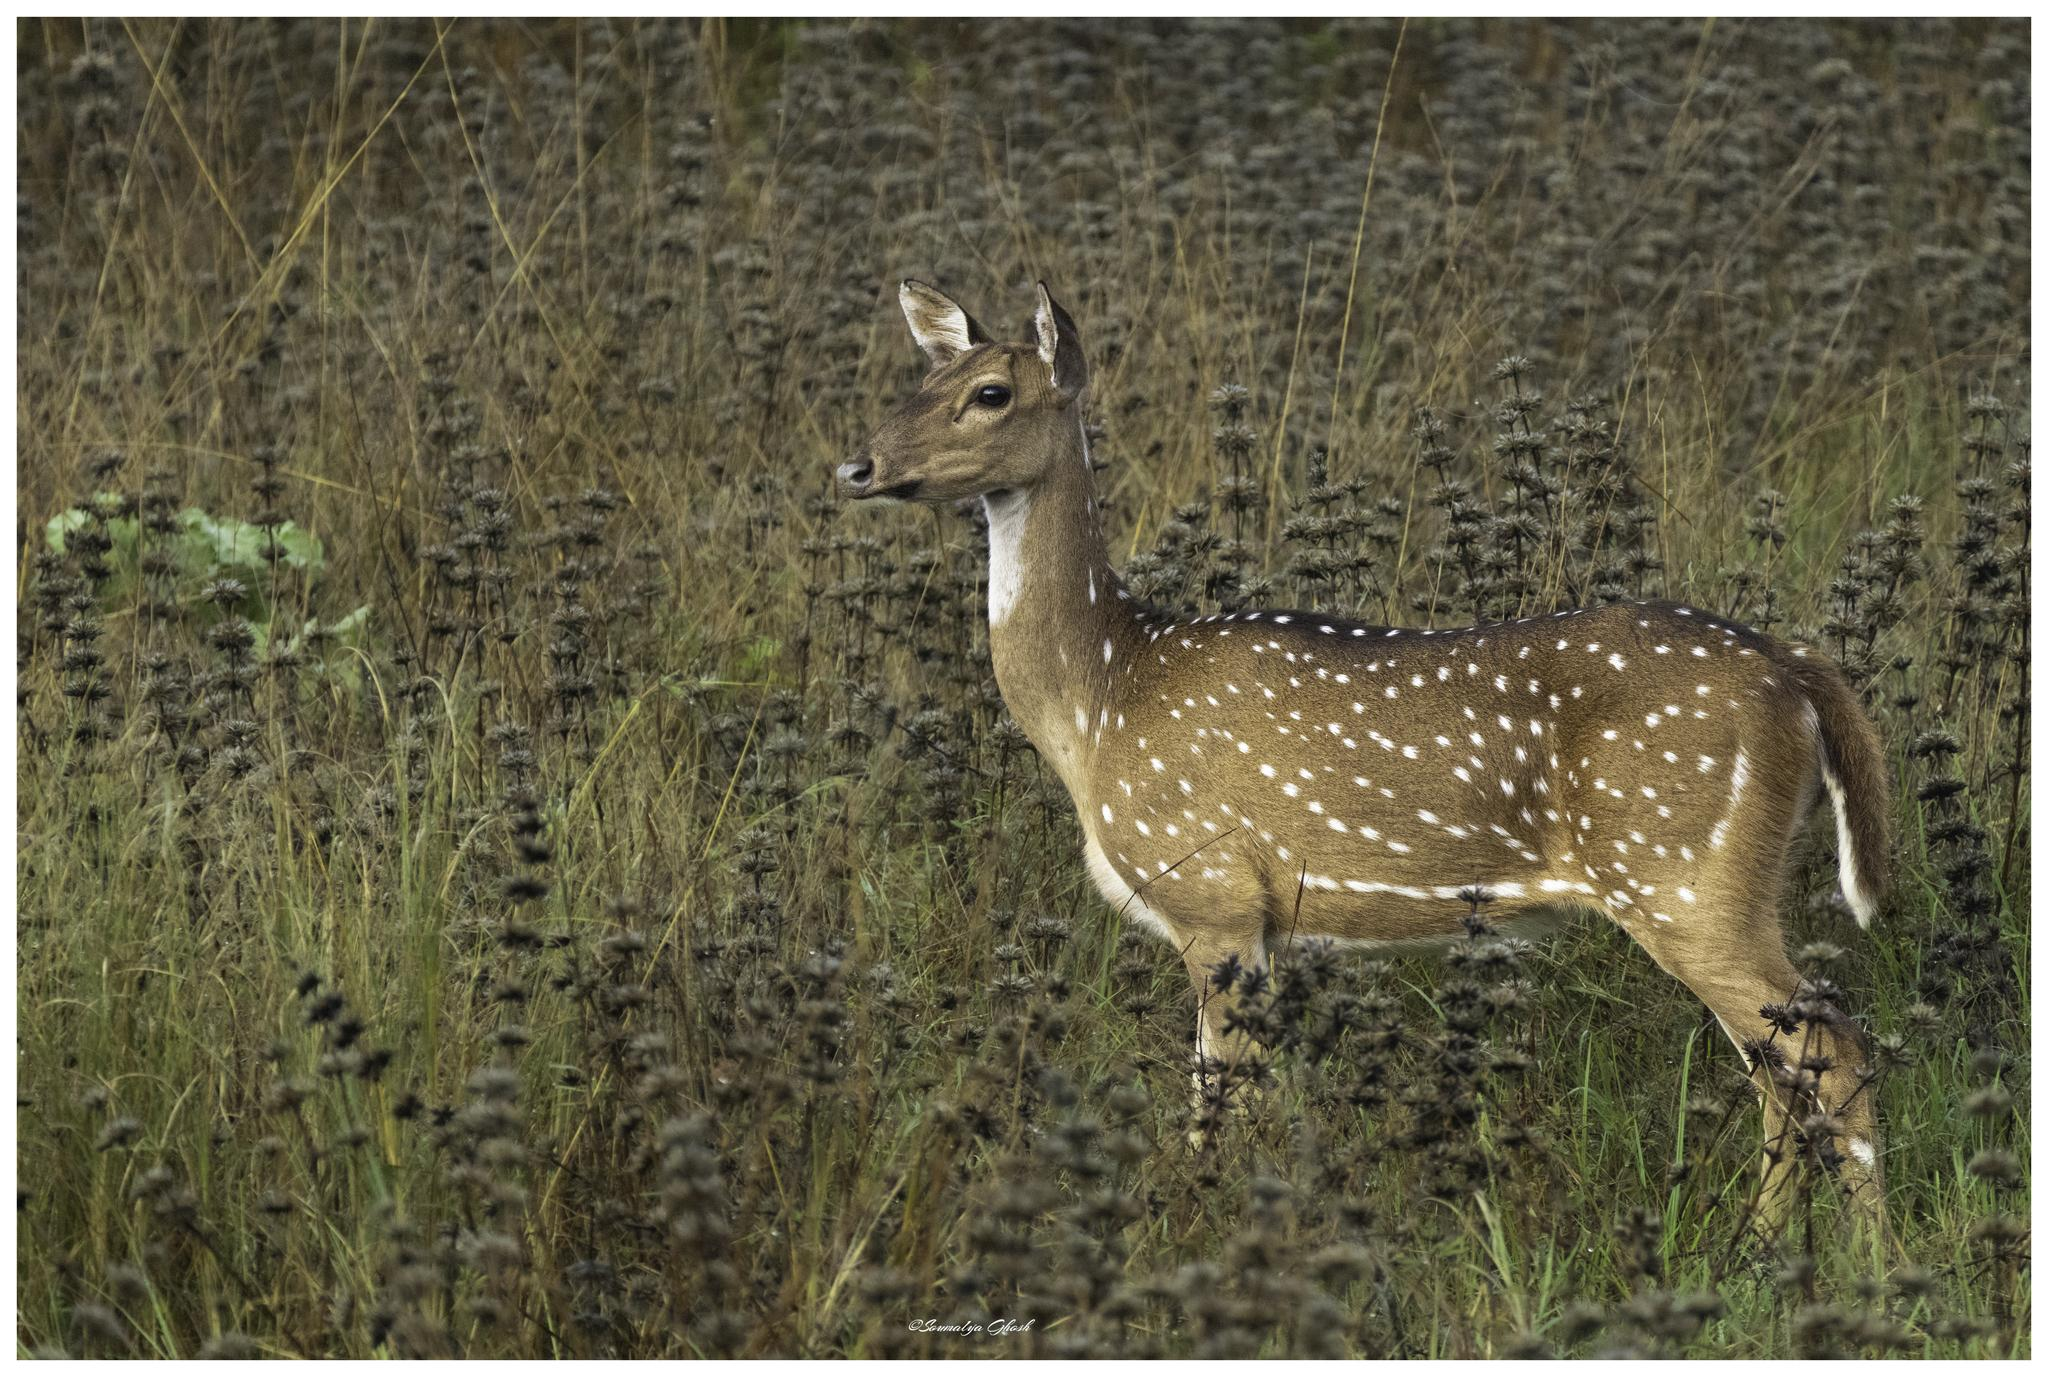Deer: (837, 286, 1884, 1202)
